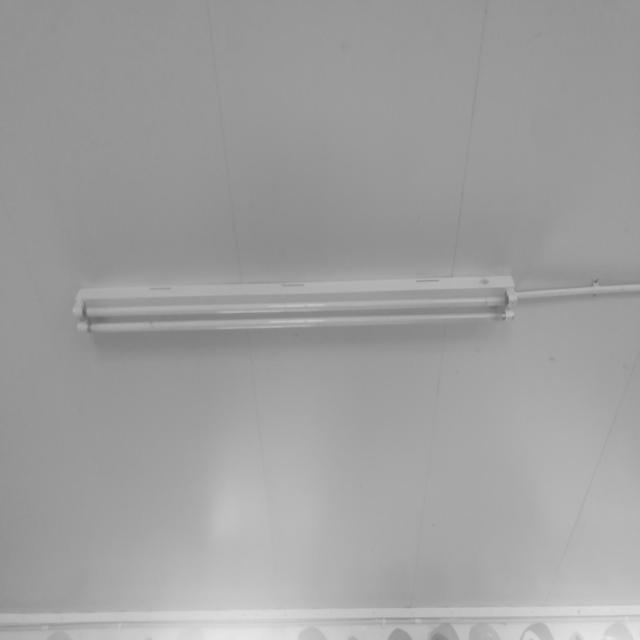light: (72, 274, 517, 334)
